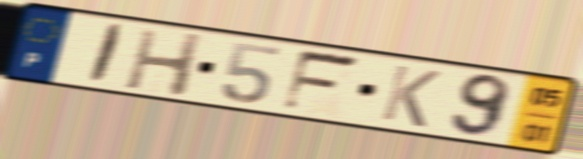5: (218, 39, 283, 106)
9: (450, 72, 517, 141)
F: (277, 47, 364, 115)
H: (121, 26, 207, 100)
I: (84, 21, 130, 87)
K: (376, 62, 445, 131)
